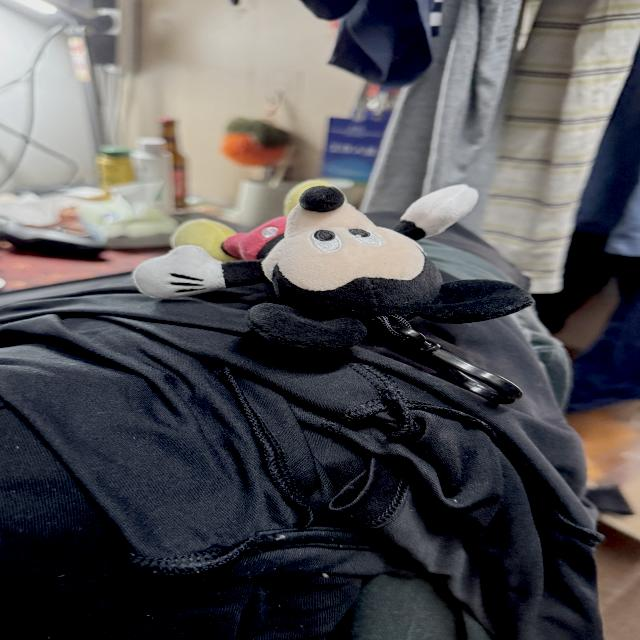mickey: (134, 186, 532, 350)
